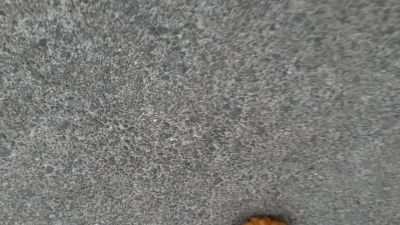eggs: (235, 215, 290, 225)
